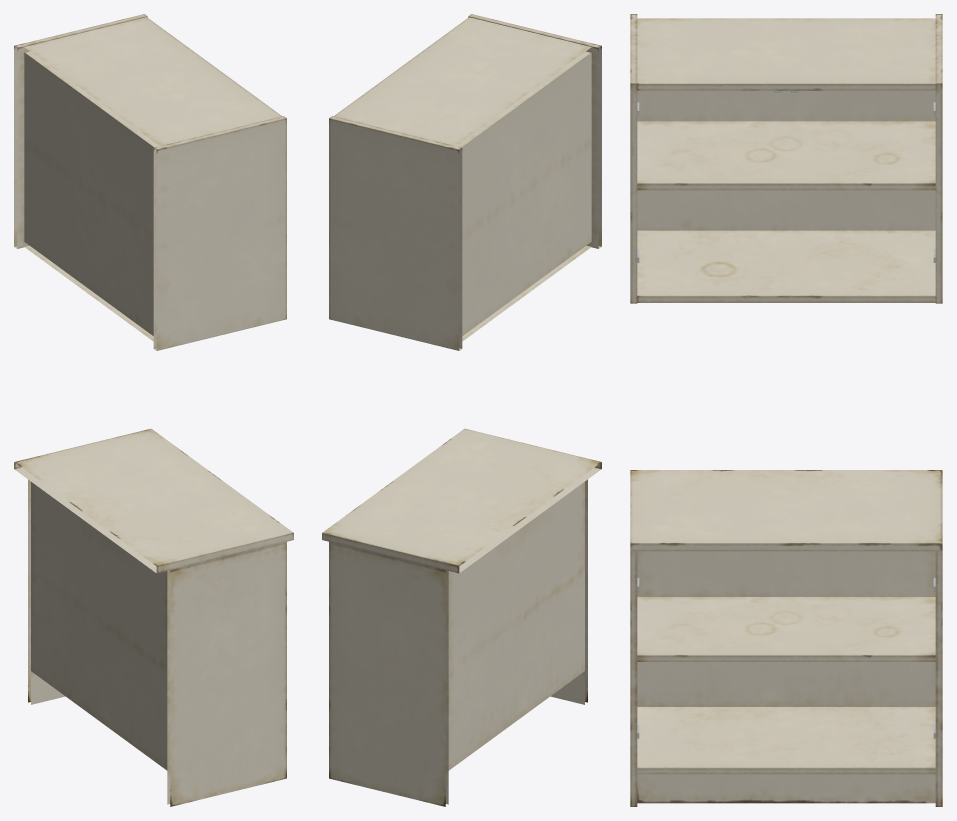
Rendered from FurnitureKicthen03.FBX.
3 renders of one model, left to right at view 1: azimuth 30°, elevation 25°; view 2: azimuth 150°, elevation 25°; view 3: azimuth 270°, elevation 25°, orthographic. The views are drawn at different scales.
Parts seen in each view (by area): view 1: FurnitureKicthen03; view 2: FurnitureKicthen03; view 3: FurnitureKicthen03.
Boxes of the visible parts, <box> form: FurnitureKicthen03: <box>14,14,293,806</box>; FurnitureKicthen03: <box>322,14,601,806</box>; FurnitureKicthen03: <box>630,14,942,806</box>.
Bounding box in the file's own units: 50 × 90 × 230.
